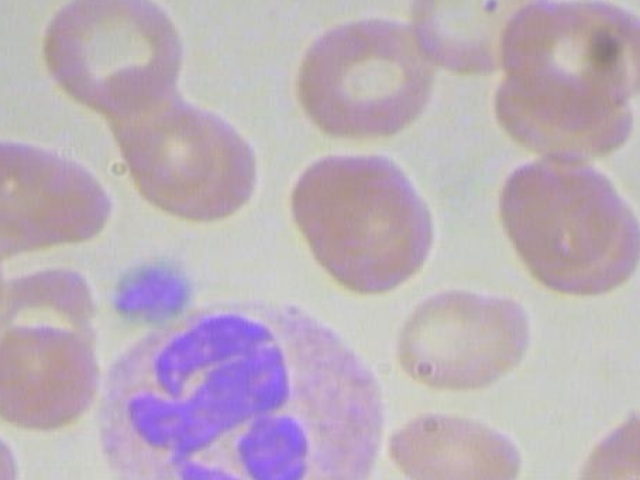Platelets: (103, 251, 202, 326), (268, 0, 329, 1)
RBC: (282, 147, 443, 292), (483, 150, 640, 296), (292, 10, 446, 149), (388, 286, 546, 398), (32, 0, 187, 113), (378, 391, 536, 480), (0, 319, 102, 434), (0, 410, 32, 480), (0, 213, 5, 349)
WBC: (66, 301, 399, 480)
